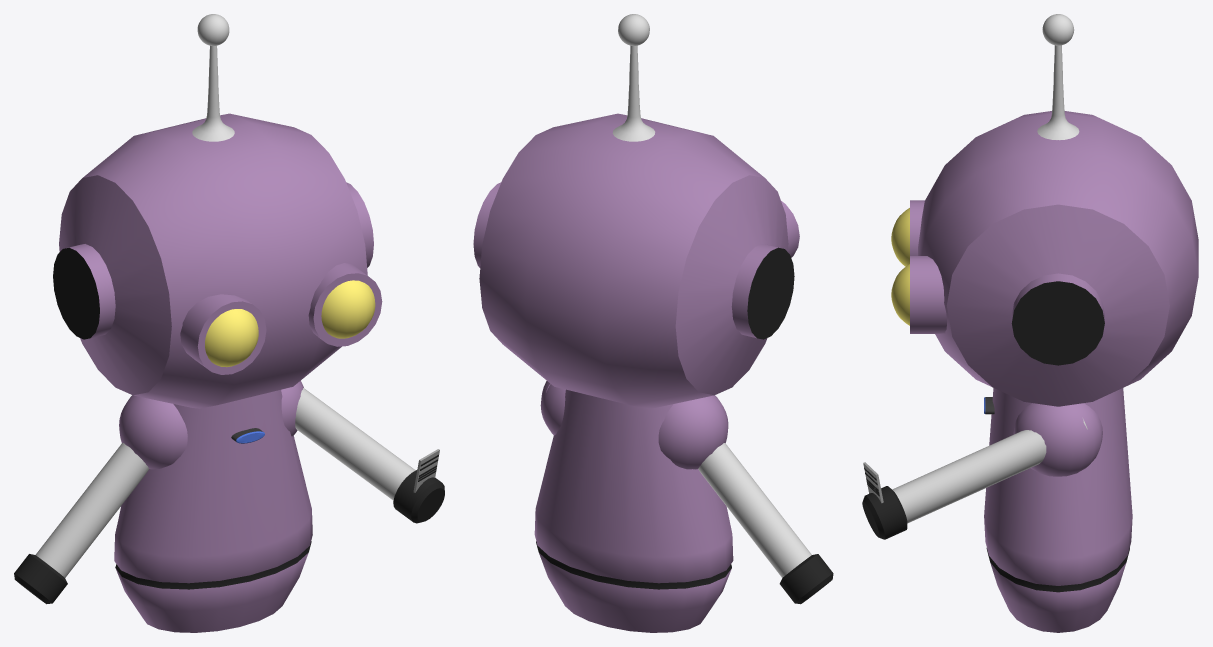
File: PurpleBotReceiptHold.fbx
3 views of the same model, side by side, from view 1: azimuth 30°, elevation 25°; view 2: azimuth 150°, elevation 25°; view 3: azimuth 270°, elevation 25° (orthographic).
Parts seen in each view (by area): view 1: pCylinder1, pCylinder3, pCylinder4, pCylinder5, pCylinder2, pSphere4, pCylinder7, pSphere2, pSphere1, pCylinder8, pCylinder6, pSphere5 (+1 smaller); view 2: pCylinder1, pCylinder3, pCylinder4, pCylinder2, pSphere4, pCylinder6, pSphere3, pSphere5, pCylinder7; view 3: pCylinder1, pCylinder3, pCylinder5, pCylinder2, pSphere3, pCylinder8, pCylinder6, pSphere2, pSphere1, pSphere5, pCylinder7.
Part boxes in pixels (box(x1,y1,x2,y2)): pCylinder1: box(59, 113, 367, 408); pCylinder3: box(114, 390, 312, 632); pCylinder4: box(14, 443, 148, 604); pCylinder5: box(295, 388, 444, 523); pCylinder2: box(53, 182, 373, 339); pSphere4: box(119, 395, 187, 469); pCylinder7: box(180, 294, 266, 374); pSphere2: box(321, 280, 375, 338); pSphere1: box(205, 309, 258, 367); pCylinder8: box(308, 263, 382, 346); pCylinder6: box(192, 45, 234, 141); pSphere5: box(197, 14, 229, 45); pCylinder1: box(479, 113, 788, 408); pCylinder3: box(534, 389, 733, 632); pCylinder4: box(698, 443, 833, 604); pCylinder2: box(473, 182, 794, 339); pSphere4: box(658, 395, 728, 469); pCylinder6: box(612, 45, 655, 141); pSphere3: box(540, 381, 565, 435); pSphere5: box(618, 14, 649, 45); pCylinder7: box(781, 201, 799, 257); pCylinder1: box(918, 111, 1198, 406); pCylinder3: box(984, 388, 1132, 632); pCylinder5: box(862, 419, 1087, 539); pCylinder2: box(1011, 273, 1104, 365); pSphere3: box(1013, 403, 1102, 476); pCylinder8: box(910, 256, 946, 333); pCylinder6: box(1037, 45, 1079, 140); pSphere2: box(891, 264, 909, 325); pSphere1: box(891, 208, 909, 266); pSphere5: box(1042, 14, 1074, 45); pCylinder7: box(910, 200, 924, 255).
Size of the model in its own units: 2.74 by 4.7 by 2.4.
